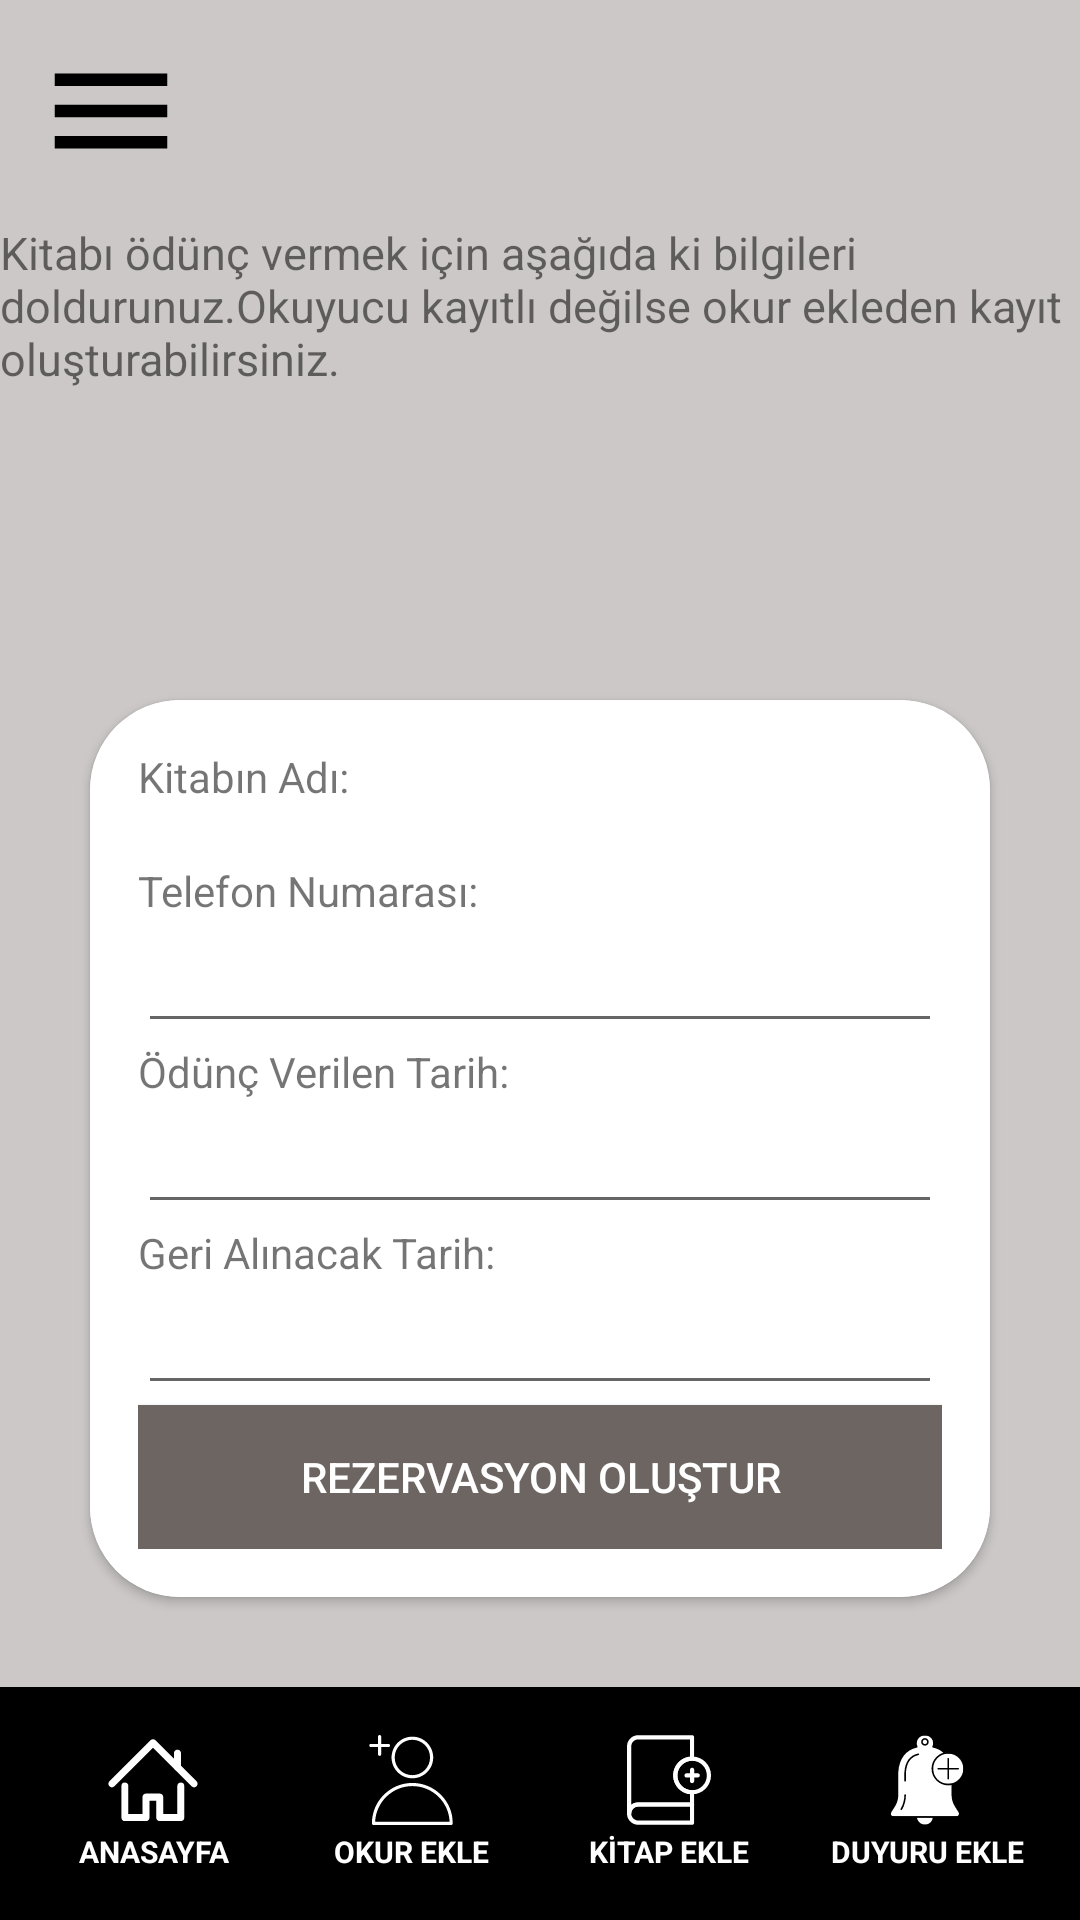

Named icons in this screenshot (1080w x 1920h) and their centers, (x=x, y=y):
menu: (x=111, y=111)
